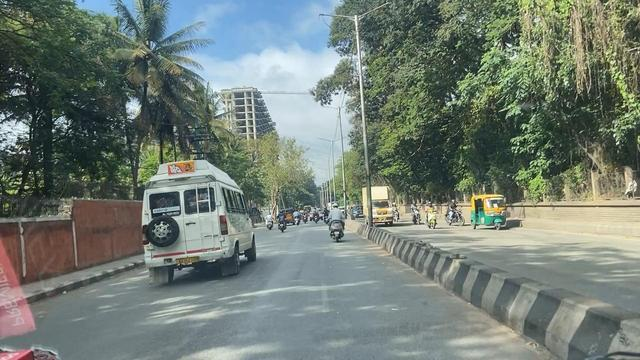HMV: (128, 162, 259, 286)
